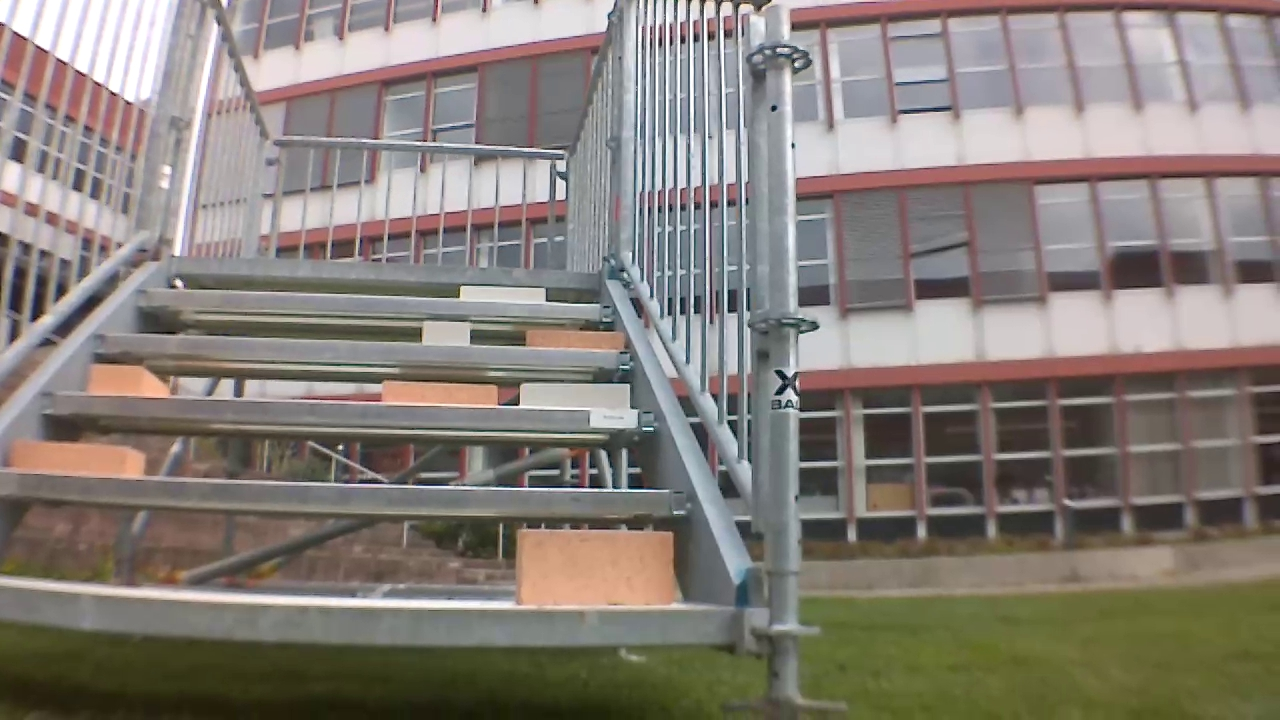brick: (500, 525, 676, 607), (1, 446, 154, 477), (518, 382, 629, 407), (82, 364, 174, 391), (373, 386, 492, 405), (512, 331, 630, 346), (456, 285, 548, 303), (414, 321, 473, 348)
edge: (0, 574, 752, 647), (0, 477, 698, 510), (87, 328, 640, 369), (31, 403, 659, 428), (170, 257, 601, 285), (133, 287, 616, 309)
stairs: (0, 0, 784, 712)
steps: (0, 254, 784, 667)
